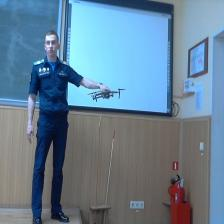drone: (87, 83, 126, 107)
